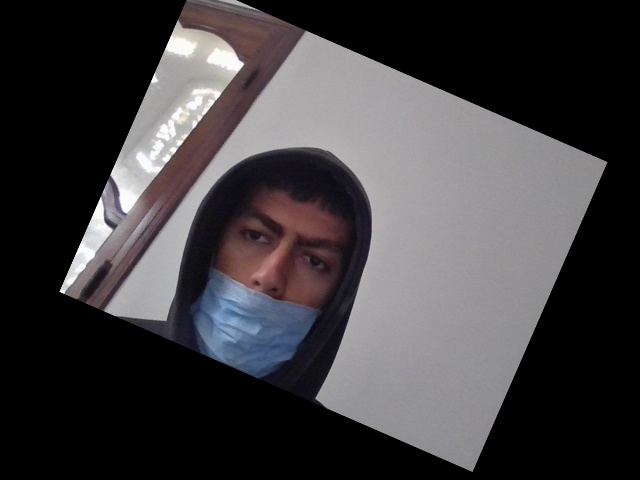mask_weared_incorrect: (195, 180, 355, 389)
